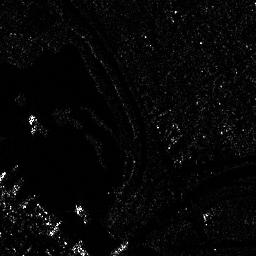ship: (26, 113, 48, 137), (76, 202, 90, 226)
